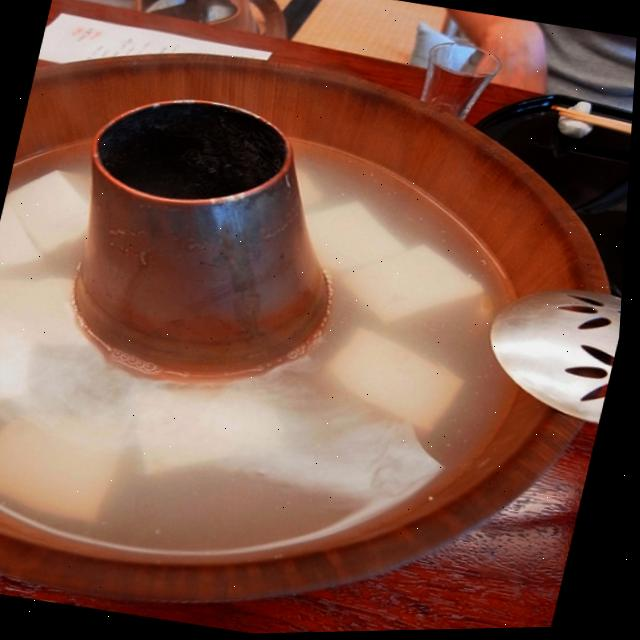豆腐料理: (0, 7, 639, 640)
